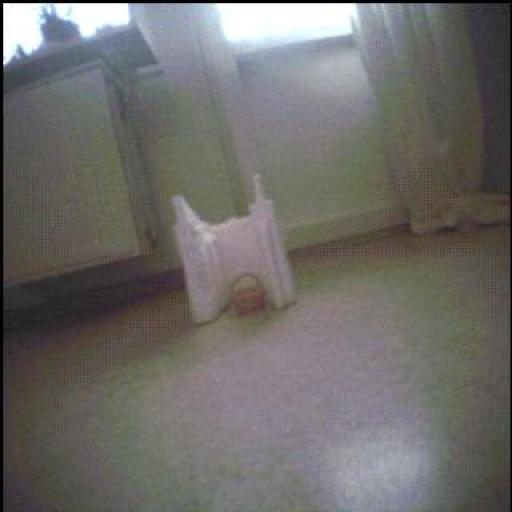Basket: (232, 275, 267, 316)
